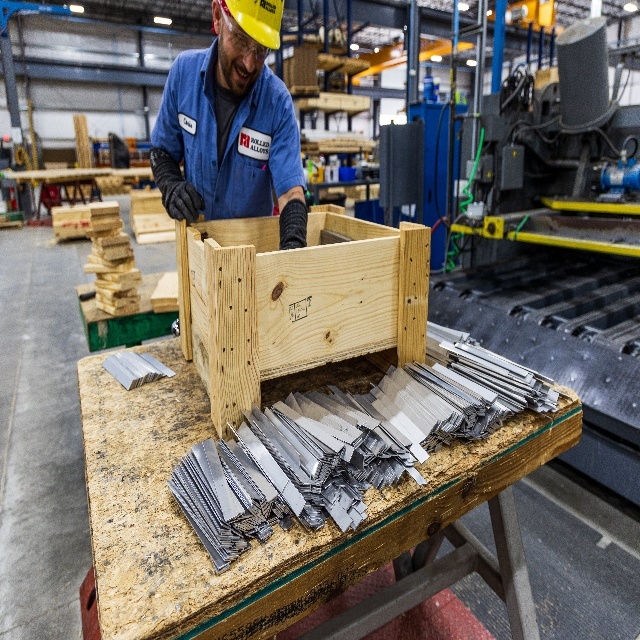Gafas: (218, 1, 269, 62)
Guantes: (149, 147, 205, 223), (279, 199, 308, 251)
